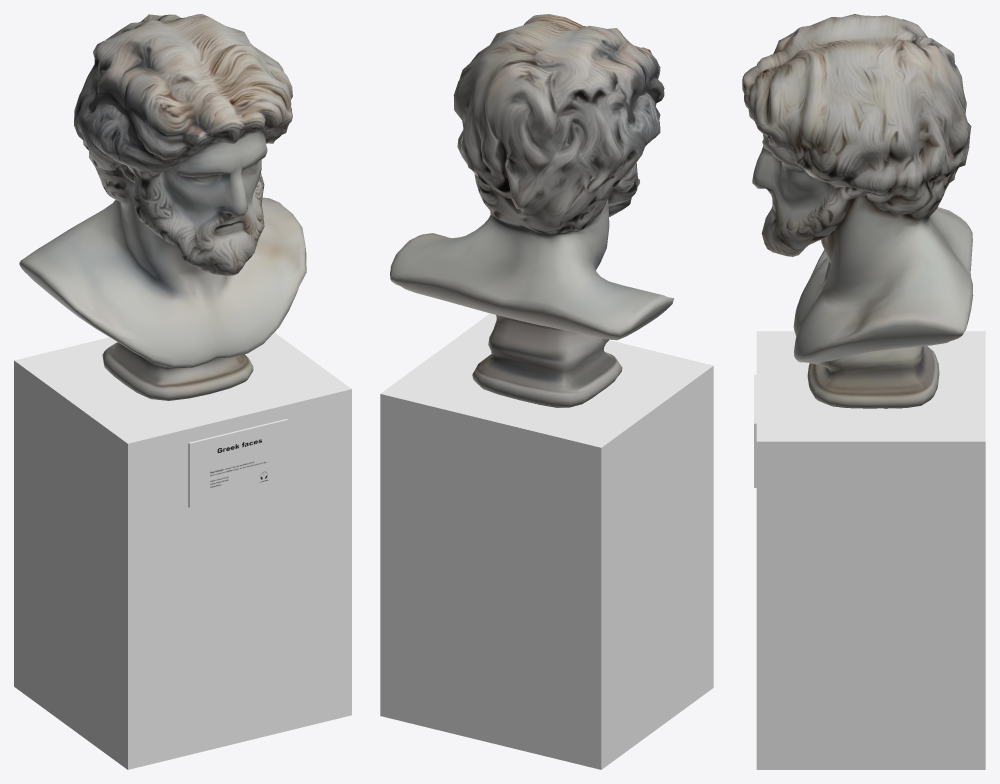
Rendered from Statue 4.fbx.
The picture shows the model from 3 angles, left to right: view 1: azimuth 30°, elevation 25°; view 2: azimuth 150°, elevation 25°; view 3: azimuth 270°, elevation 25°; orthographic projection.
Parts seen in each view (by area): view 1: Statue 4; view 2: Statue 4; view 3: Statue 4.
Boxes of the visible parts, bbox=[...] form: Statue 4: bbox=[14, 14, 351, 769]; Statue 4: bbox=[380, 14, 713, 769]; Statue 4: bbox=[742, 14, 985, 769].
Size of the model in its own units: 69.43 by 182 by 58.8.
2 materials, 2 textured.
